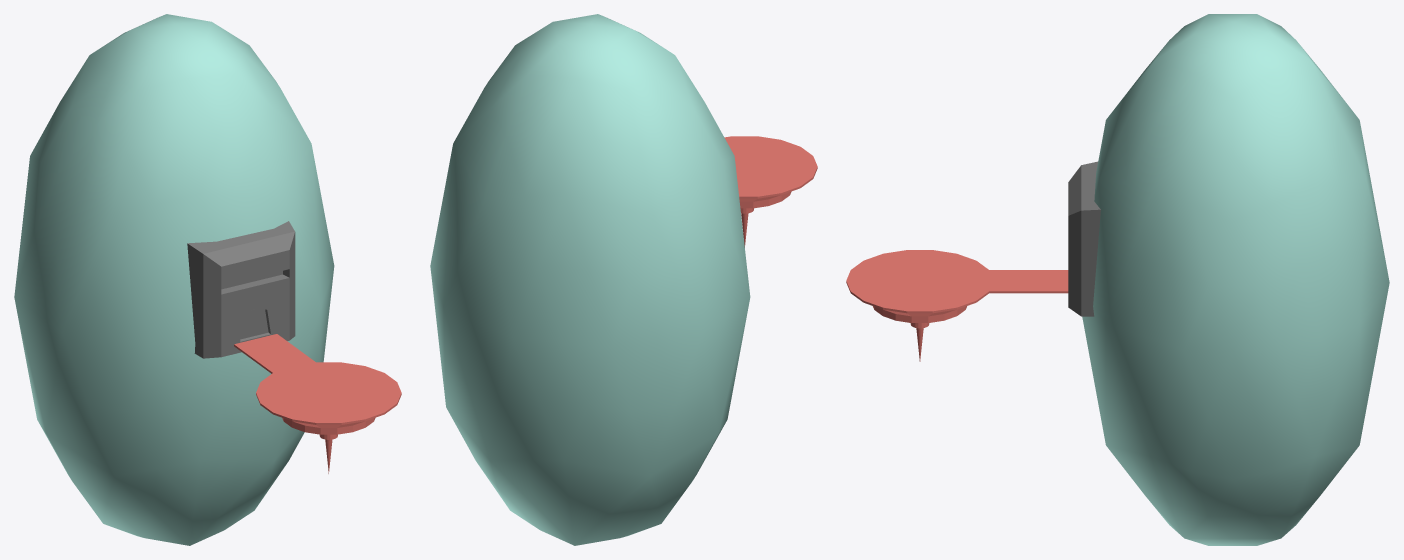
Rendered from Space_Station.fbx.
The picture shows the model from 3 angles, left to right: view 1: azimuth 30°, elevation 25°; view 2: azimuth 150°, elevation 25°; view 3: azimuth 270°, elevation 25°; orthographic projection.
Visible parts, largest first — view 1: Icosphere, Cube, Circle; view 2: Icosphere, Circle; view 3: Icosphere, Circle, Cube.
Boxes of the visible parts, left/top/right/bottom form: Icosphere: left=14, top=14, right=334, bottom=545; Cube: left=187, top=221, right=295, bottom=358; Circle: left=234, top=334, right=401, bottom=473; Icosphere: left=430, top=14, right=750, bottom=545; Circle: left=724, top=136, right=817, bottom=247; Icosphere: left=1082, top=14, right=1389, bottom=545; Circle: left=846, top=250, right=1068, bottom=361; Cube: left=1068, top=161, right=1100, bottom=316.
Size of the model in its own units: 2483 by 4394 by 4241.
